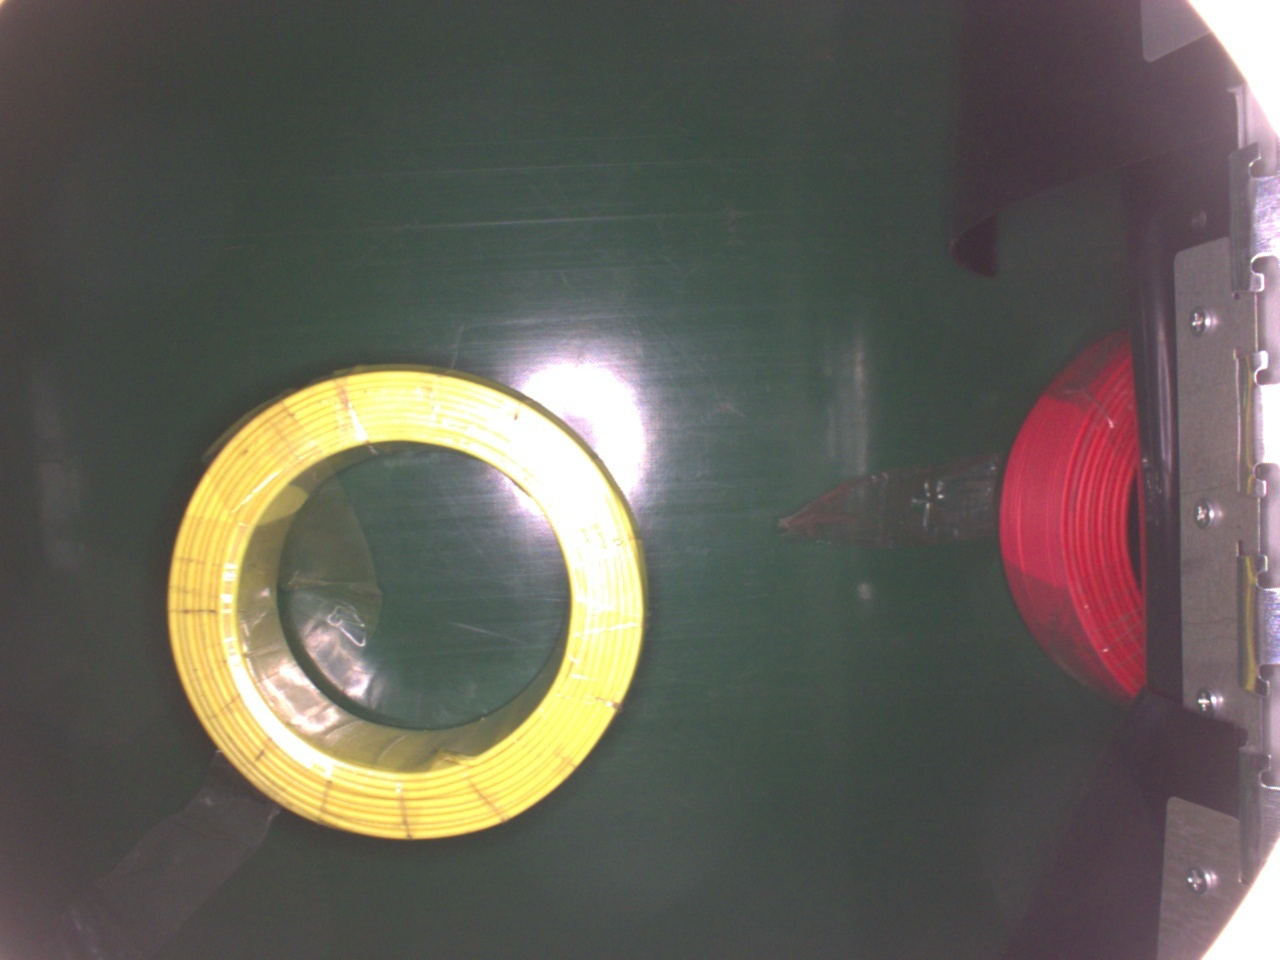red: (998, 322, 1146, 703)
yellow: (164, 362, 648, 842)
